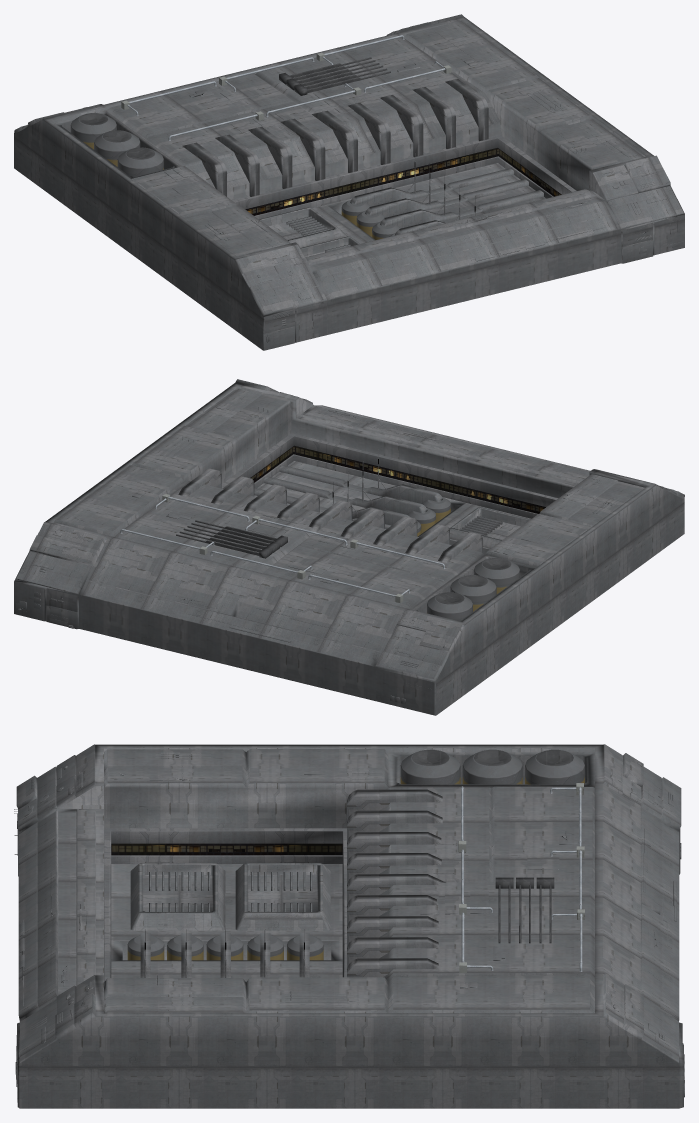
File: CityBlock004.fbx
3 views of the same model, one above another, from view 1: azimuth 30°, elevation 25°; view 2: azimuth 150°, elevation 25°; view 3: azimuth 270°, elevation 25° (orthographic). The views are drawn at different scales.
Visible parts, largest first — view 1: SMCGBlock44_8316.Shape; view 2: SMCGBlock44_8316.Shape; view 3: SMCGBlock44_8316.Shape.
Part boxes in pixels (x1,y1,x2,y2): SMCGBlock44_8316.Shape: (14,14,684,350); SMCGBlock44_8316.Shape: (14,379,684,715); SMCGBlock44_8316.Shape: (14,744,684,1108).
Bounding box in the file's own units: 721 × 134 × 751.
